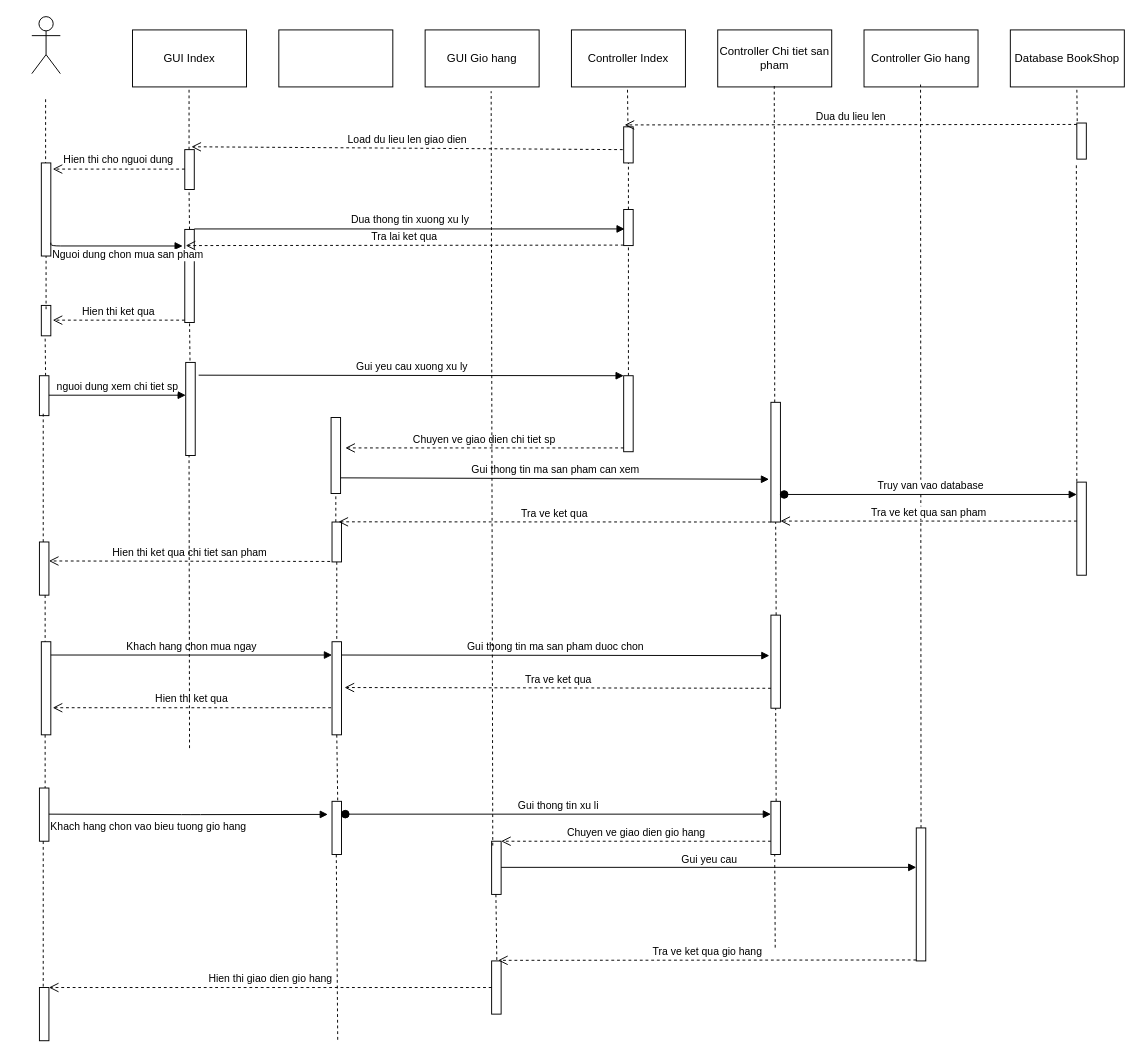
Some shapes in this 1141 by 1058 pixel diagram are drawn without their labels. Each missing label, with the centre of its shape:
"GUI Chi tiet san pham" belongs at pixel 335 58.
"KhachHang" belongs at pixel 45 45.
